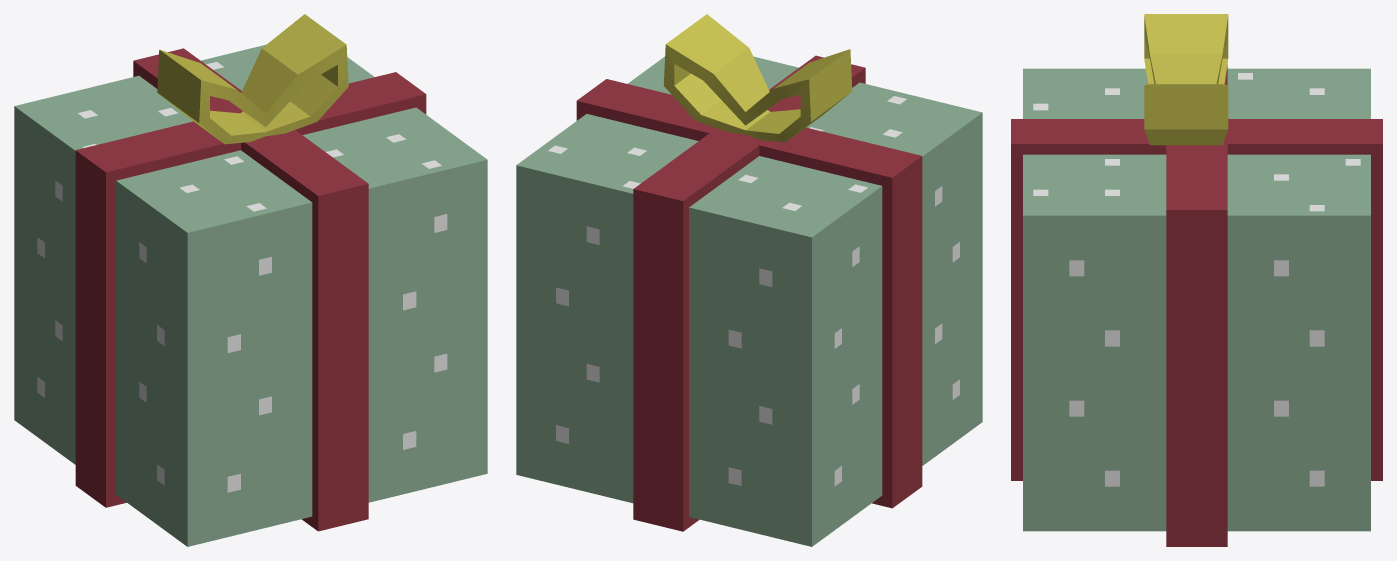
The model's file is Caja Navideña 1.fbx.
The picture shows the model from 3 angles, left to right: view 1: azimuth 30°, elevation 25°; view 2: azimuth 150°, elevation 25°; view 3: azimuth 270°, elevation 25°; orthographic projection.
Parts seen in each view (by area): view 1: fes_Caja_tipo_1, Moñito_1; view 2: fes_Caja_tipo_1, Moñito_1; view 3: fes_Caja_tipo_1, Moñito_1.
Part boxes in pixels (box(x1,y1,x2,y2)): fes_Caja_tipo_1: box(14, 44, 487, 546); Moñito_1: box(157, 14, 348, 144); fes_Caja_tipo_1: box(516, 55, 982, 546); Moñito_1: box(663, 14, 852, 142); fes_Caja_tipo_1: box(1011, 65, 1382, 546); Moñito_1: box(1144, 14, 1228, 145).
Size of the model in its own units: 1.07 by 1.32 by 1.07.
